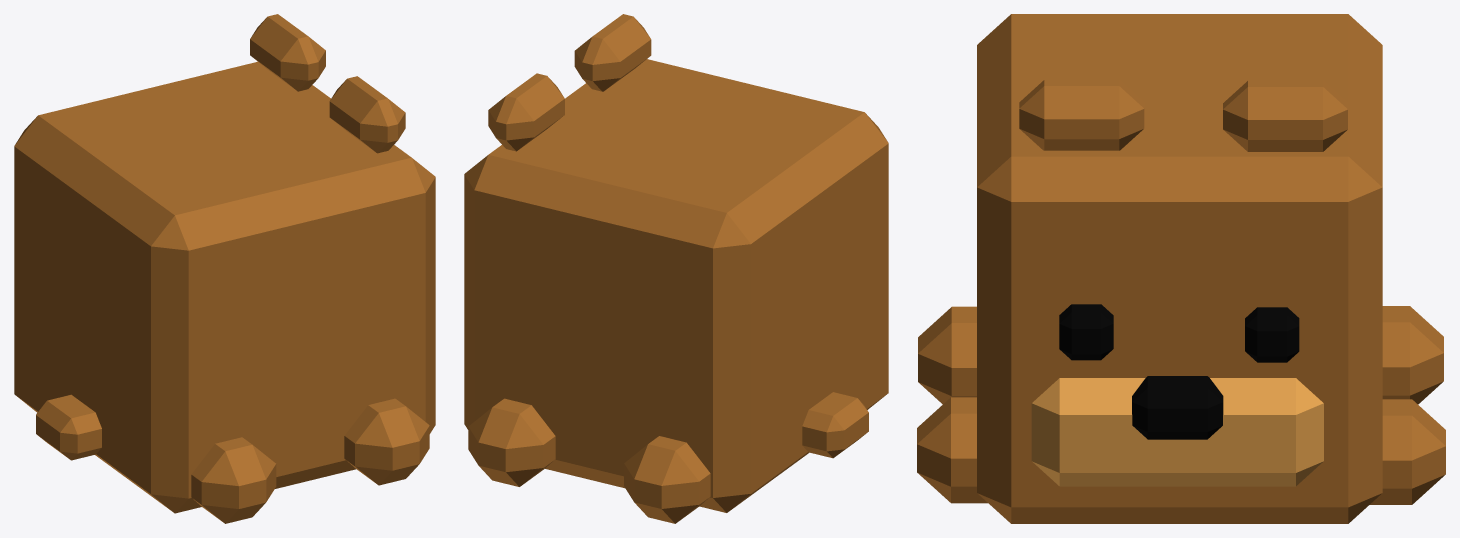
The model's file is Beary.fbx.
The picture shows the model from 3 angles, left to right: view 1: azimuth 30°, elevation 25°; view 2: azimuth 150°, elevation 25°; view 3: azimuth 270°, elevation 25°; orthographic projection. The views are drawn at different scales.
Visible parts, largest first — view 1: Test; view 2: Test; view 3: Test.
Part boxes in pixels (x1,y1,x2,y2): Test: (14, 14, 435, 523); Test: (464, 14, 888, 523); Test: (917, 14, 1445, 523).
Size of the model in its own units: 2.46 by 2.61 by 2.35.
